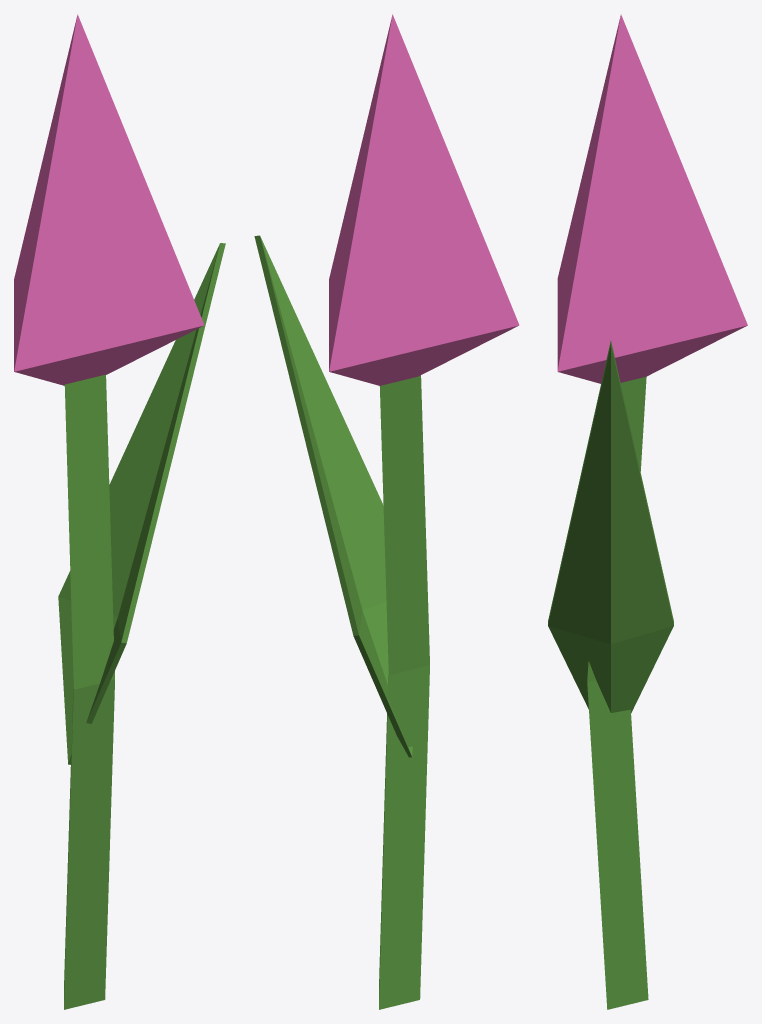
The model's file is Flower_tulip_violet.fbx.
The picture shows the model from 3 angles, left to right: view 1: azimuth 30°, elevation 25°; view 2: azimuth 150°, elevation 25°; view 3: azimuth 270°, elevation 25°; orthographic projection.
Visible parts, largest first — view 1: Flower_tulip_violet; view 2: Flower_tulip_violet; view 3: Flower_tulip_violet.
Boxes of the visible parts, x1,y1,x2,y2 form: Flower_tulip_violet: (14,14,225,1009); Flower_tulip_violet: (254,14,519,1009); Flower_tulip_violet: (548,14,747,1009).
Bounding box in the file's own units: 14.7 × 58.09 × 10.68.
